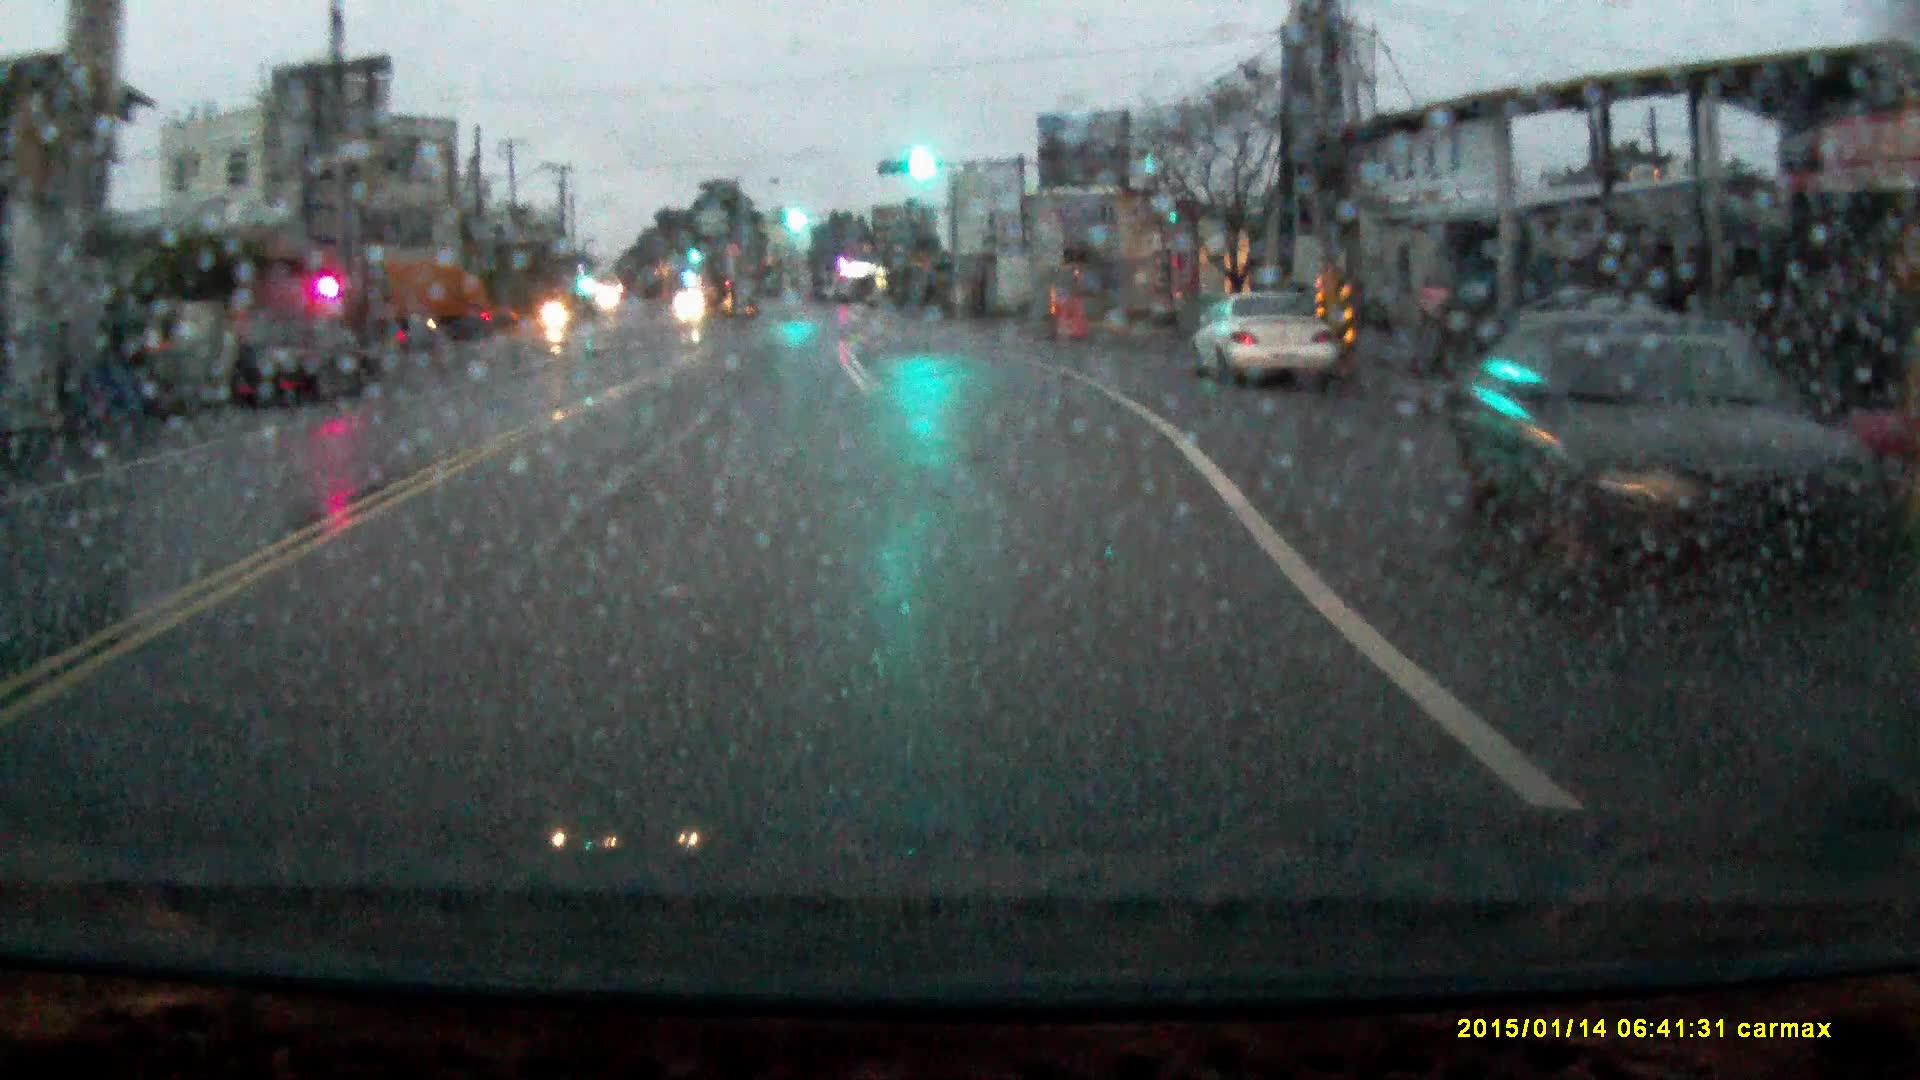rider: (539, 279, 573, 339)
vehicle: (1448, 313, 1825, 568), (1190, 288, 1330, 388), (368, 254, 514, 341), (224, 322, 371, 405), (676, 293, 705, 316)
